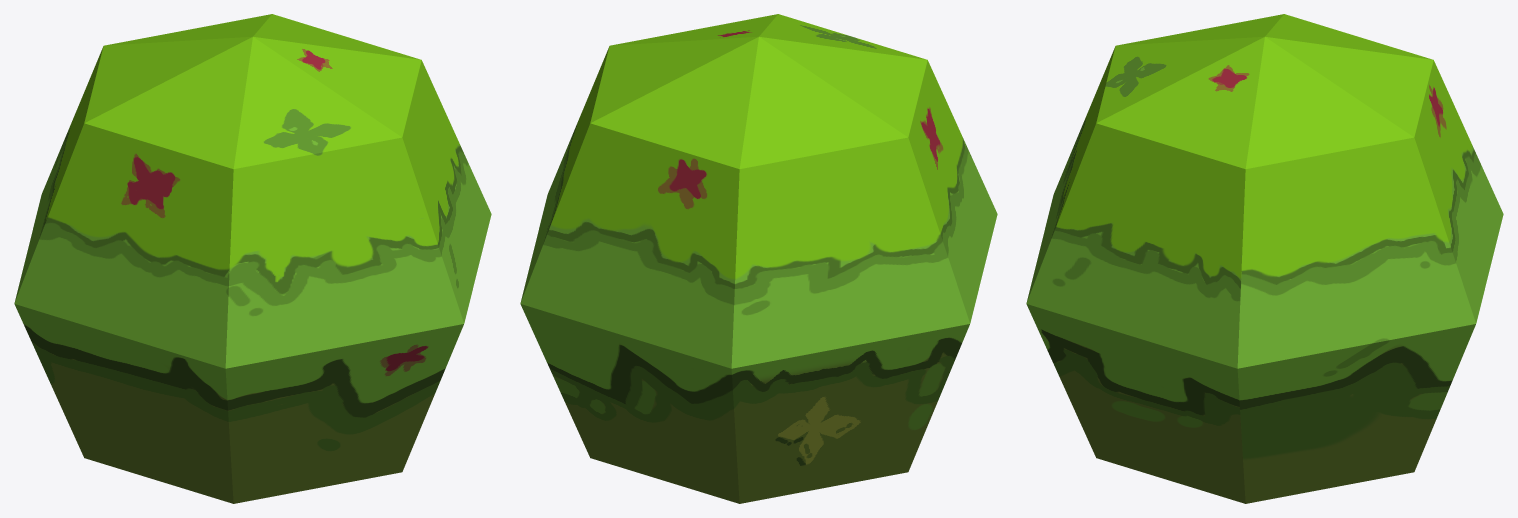
File: arbustos.fbx
3 views of the same model, side by side, from view 1: azimuth 30°, elevation 25°; view 2: azimuth 150°, elevation 25°; view 3: azimuth 270°, elevation 25° (orthographic).
Visible parts, largest first — view 1: Sphere.008; view 2: Sphere.008; view 3: Sphere.008.
Part boxes in pixels (x1=…): Sphere.008: x1=14, y1=14, x2=491, y2=503; Sphere.008: x1=520, y1=14, x2=997, y2=503; Sphere.008: x1=1026, y1=14, x2=1503, y2=503.
Size of the model in its own units: 199 by 174 by 182.
